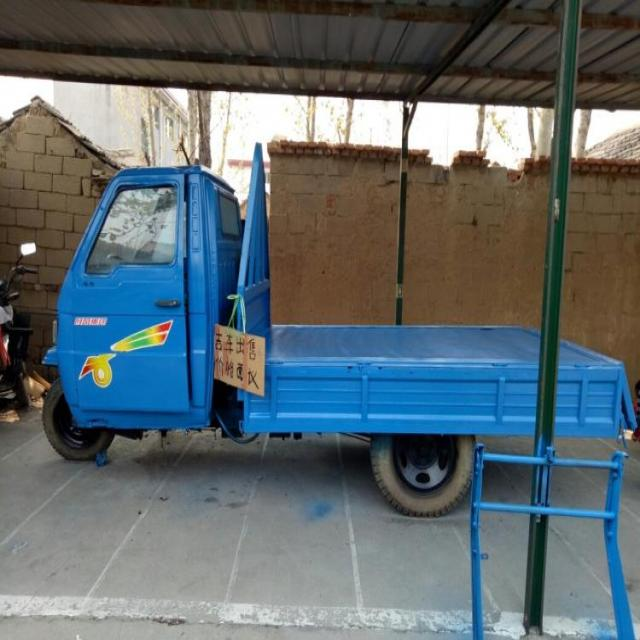motorbike: (0, 242, 37, 406)
tricycle: (38, 142, 636, 518)
